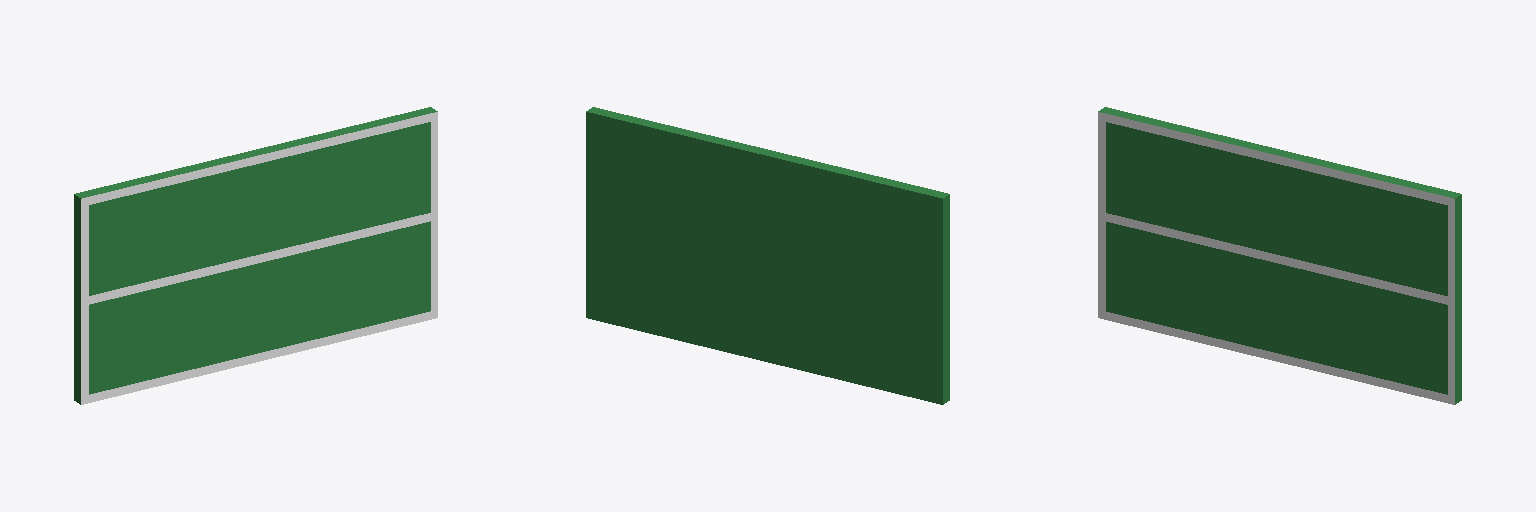
3 renders of one model, left to right at view 1: azimuth 30°, elevation 25°; view 2: azimuth 150°, elevation 25°; view 3: azimuth 330°, elevation 25°, orthographic.
Bounding box in the file's own units: 2.74 × 1.51 × 0.0891.
Materials: 1 (1 with a texture image).